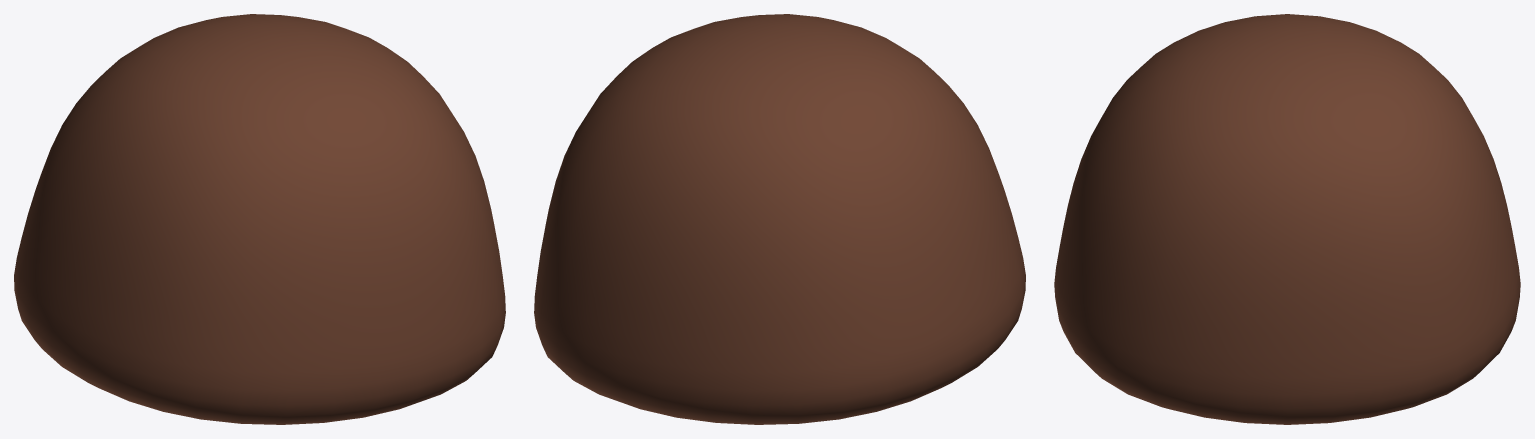
Rendered from Cikolata_Topcugu.fbx.
3 views of the same model, side by side, from view 1: azimuth 30°, elevation 25°; view 2: azimuth 150°, elevation 25°; view 3: azimuth 270°, elevation 25° (orthographic). The views are drawn at different scales.
Visible parts, largest first — view 1: cikolota18; view 2: cikolota18; view 3: cikolota18.
Boxes of the visible parts, x1,y1,x2,y2 form: cikolota18: (14,14,505,424); cikolota18: (534,14,1025,424); cikolota18: (1054,14,1520,424).
Size of the model in its own units: 0.6427 by 0.4745 by 0.6438.
